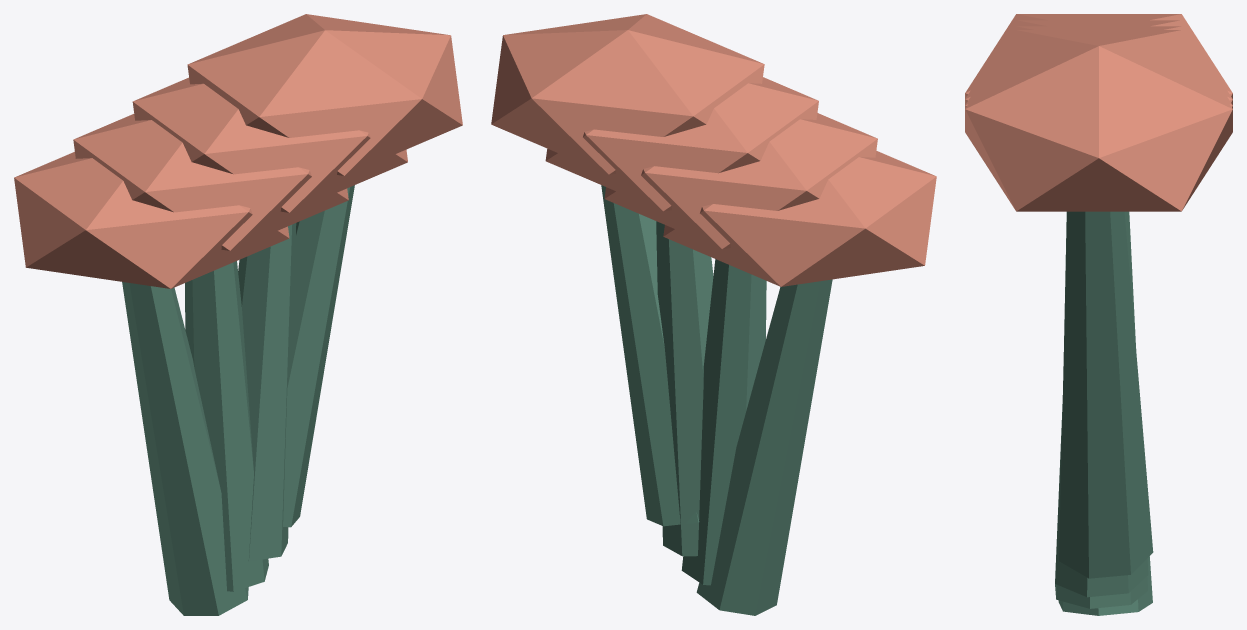
The model's file is Plant_01_LOD0.fbx.
3 views of the same model, side by side, from view 1: azimuth 30°, elevation 25°; view 2: azimuth 150°, elevation 25°; view 3: azimuth 270°, elevation 25° (orthographic). The views are drawn at different scales.
Visible parts, largest first — view 1: Plant_01_LOD0; view 2: Plant_01_LOD0; view 3: Plant_01_LOD0.
Part boxes in pixels (bbox=[...]): Plant_01_LOD0: bbox=[14, 14, 462, 615]; Plant_01_LOD0: bbox=[491, 14, 936, 615]; Plant_01_LOD0: bbox=[965, 14, 1232, 615].
Bounding box in the file's own units: 151 × 186 × 71.45.
